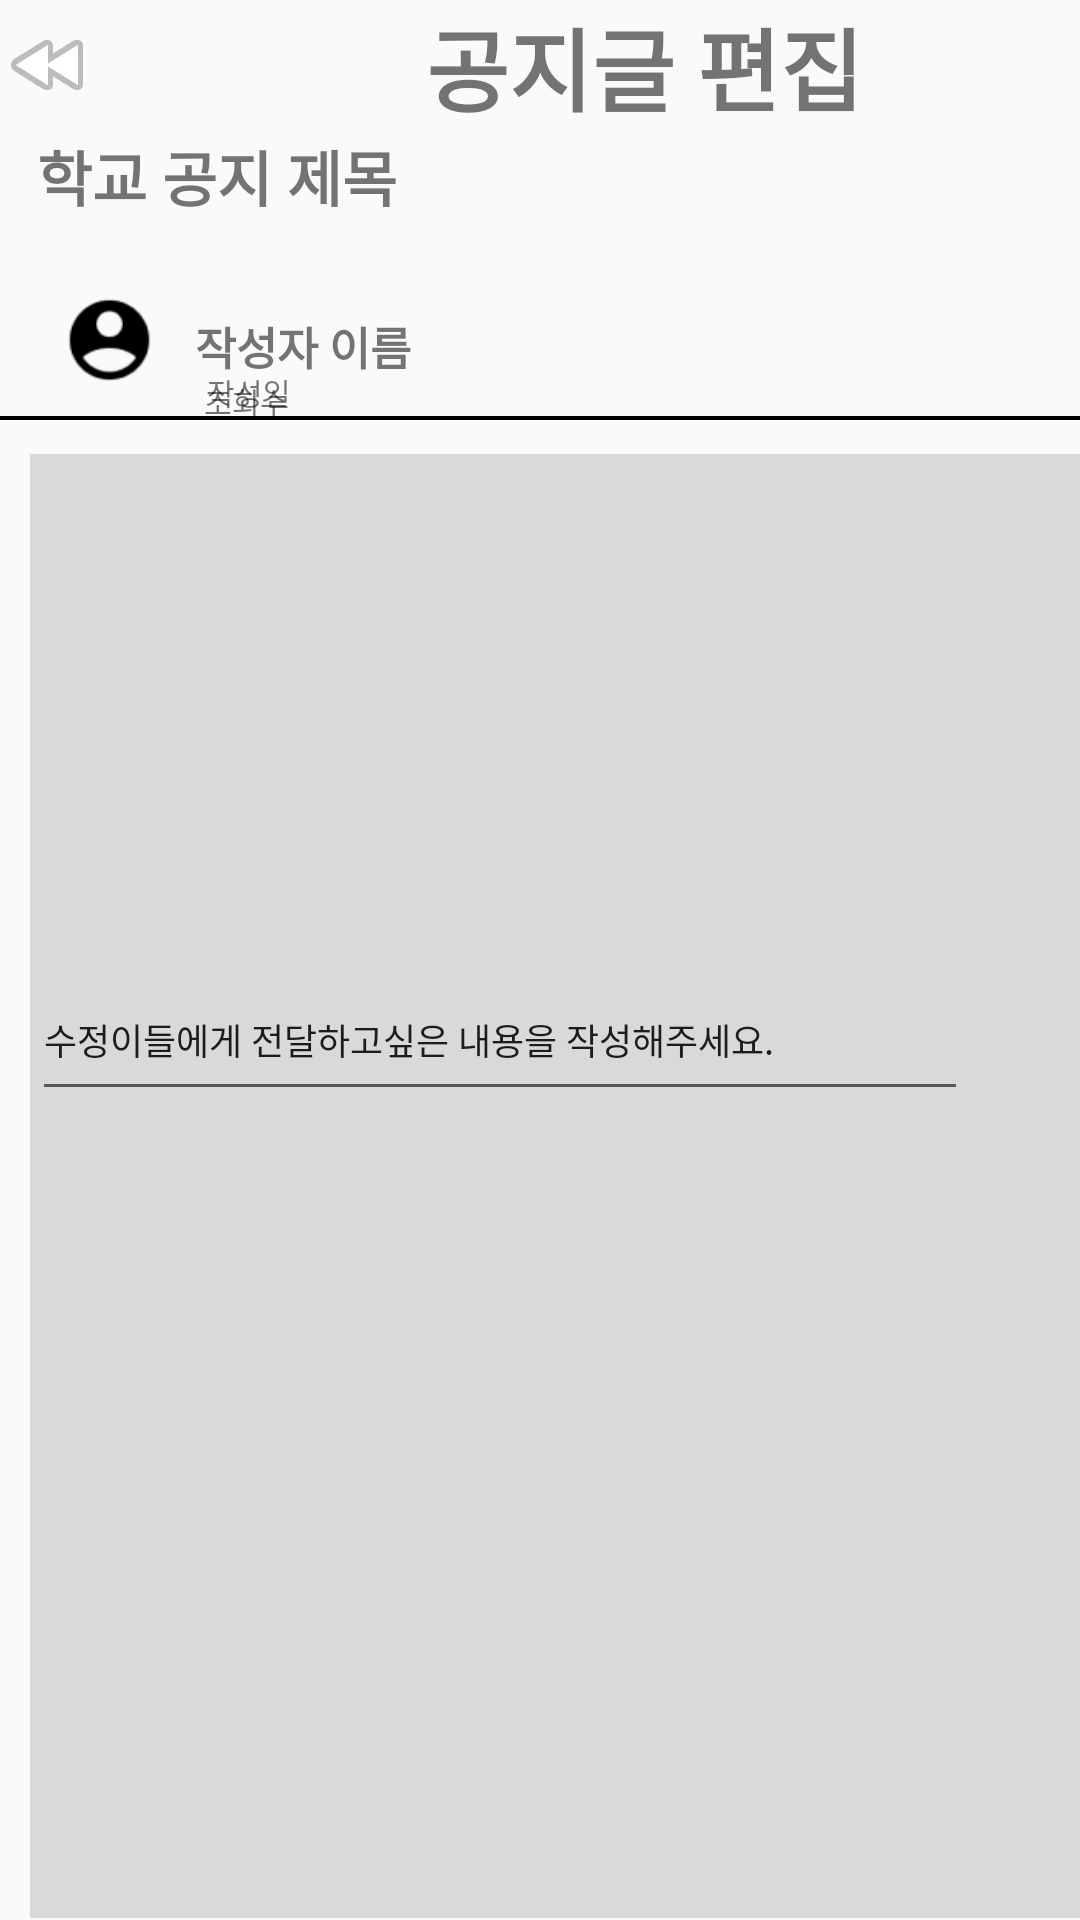

Icon click points for this 1080 x 1920 phone screenshot, format (x,y):
rew: (47,65)
user: (109,340)
